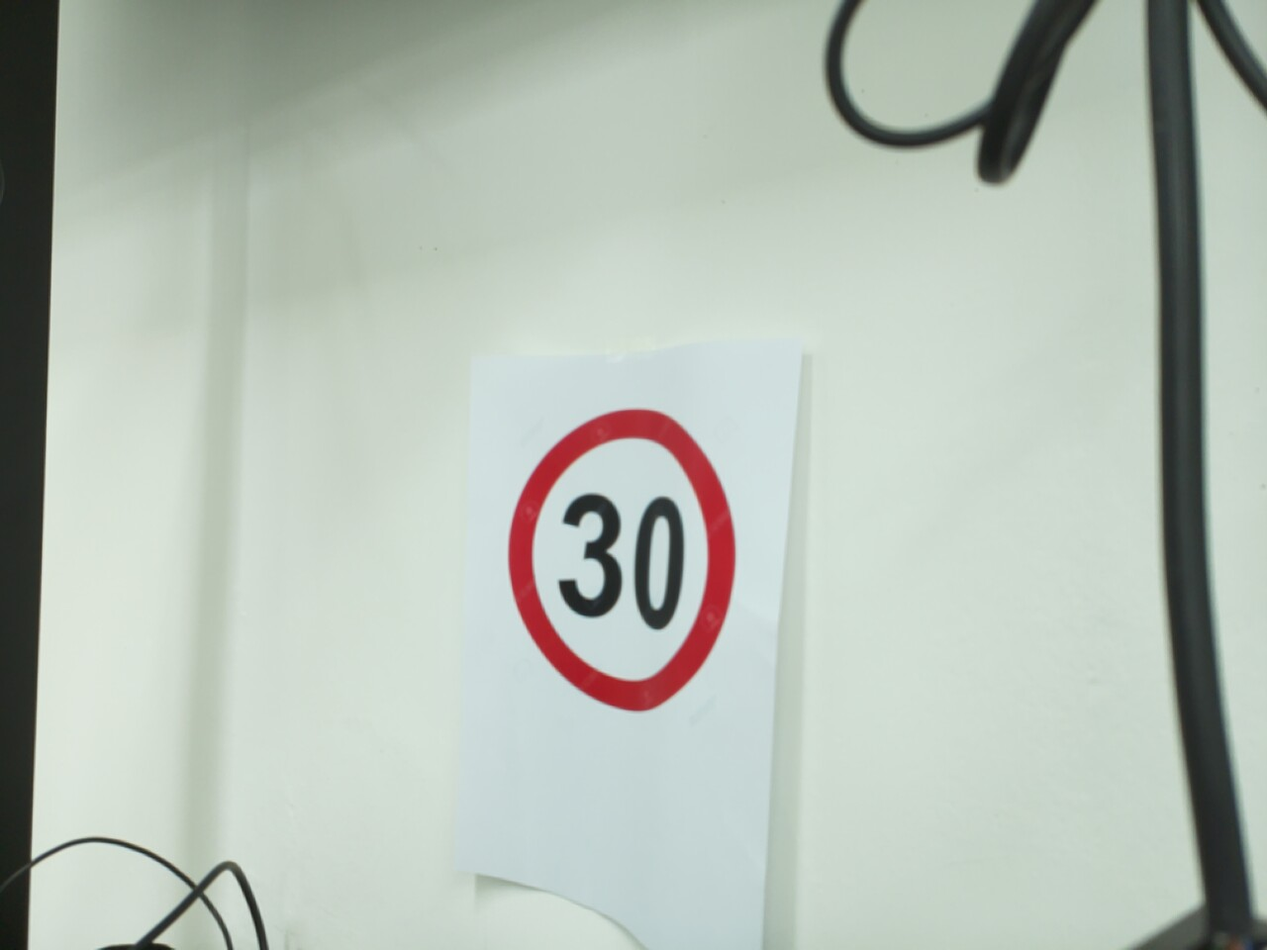speed_30: (500, 399, 743, 721)
